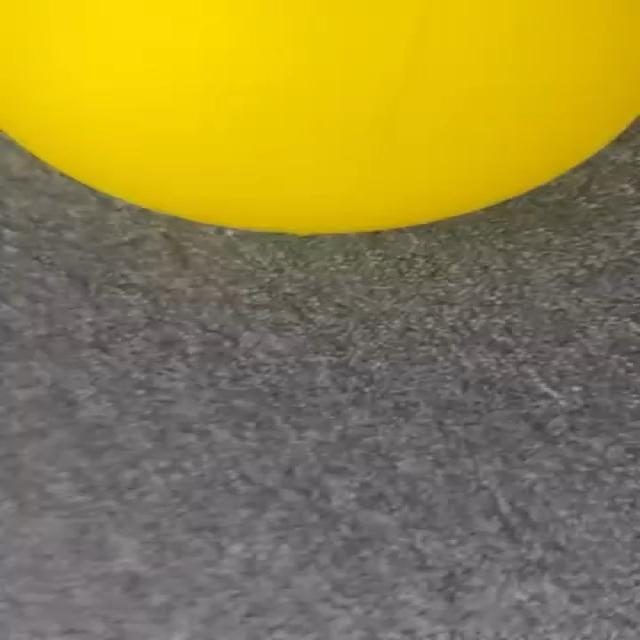Fuels: (2, 0, 638, 233)
